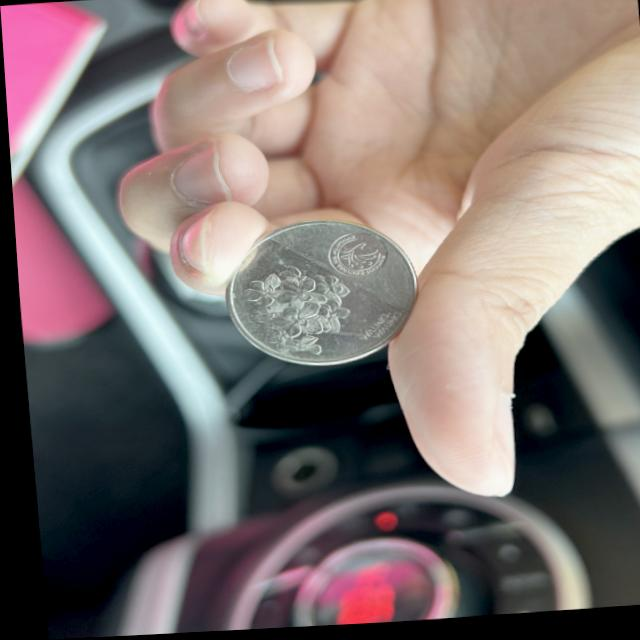1_New_Back: (243, 271, 352, 357)
